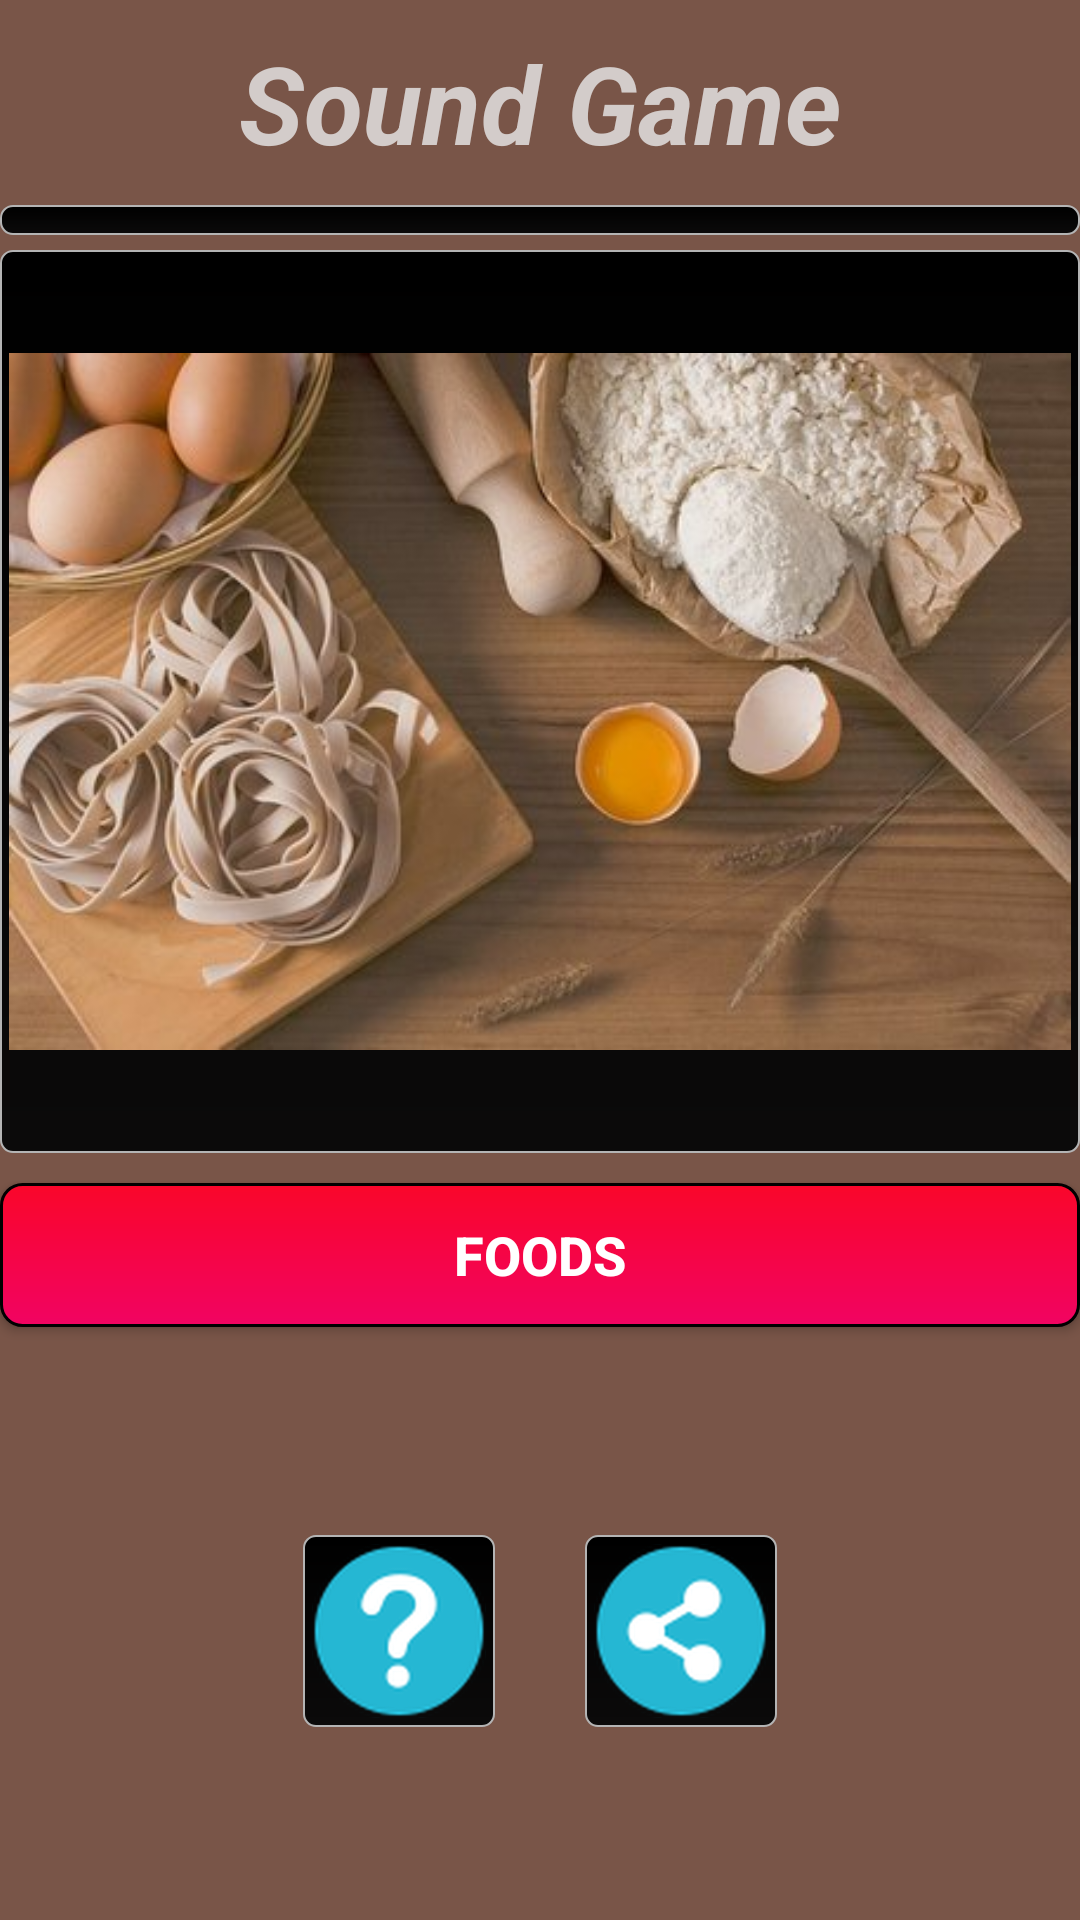

Where icons sit on this 1080x1920 app screen, as rect(x1, y1, x2, y2):
Invite friends: rect(585, 1535, 777, 1727)
